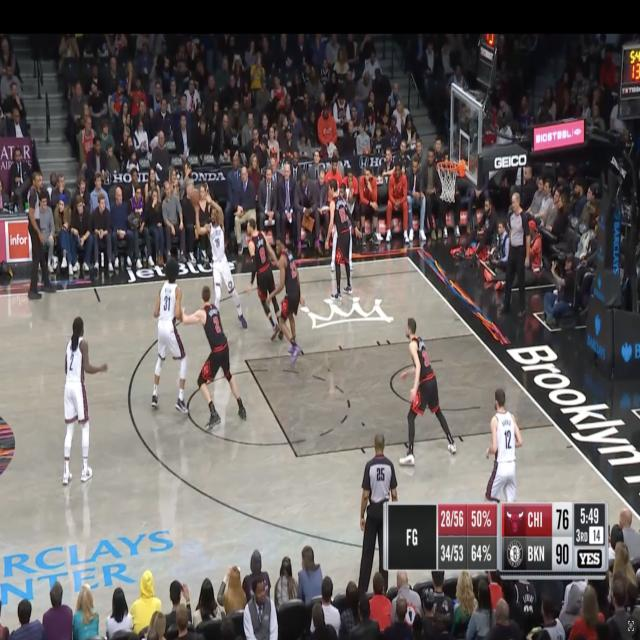no foul: (131, 254, 247, 484), (200, 200, 278, 354), (245, 202, 311, 362)
